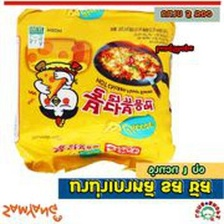snack: (5, 4, 182, 181)
